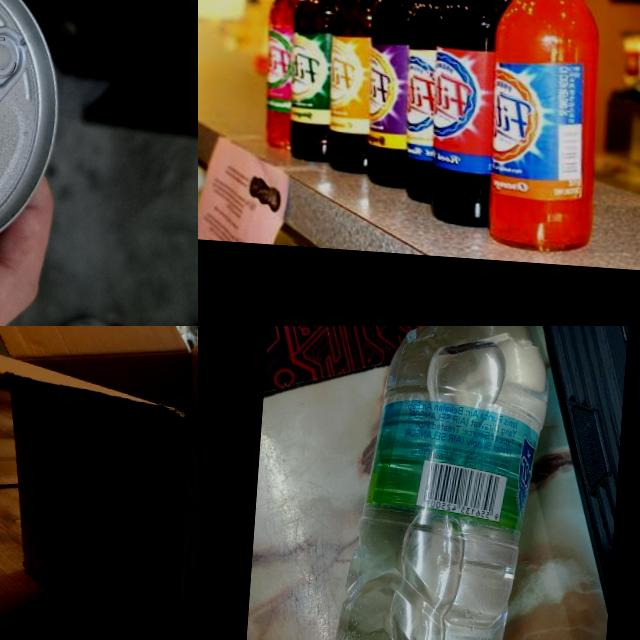aba de lata: (0, 21, 30, 136)
garrafa de vidro: (483, 0, 616, 253), (424, 0, 522, 232), (394, 0, 472, 204), (363, 0, 435, 189), (324, 0, 397, 175), (282, 0, 355, 162), (260, 0, 318, 149)
garrafa plástica: (309, 326, 559, 640)
lata: (0, 0, 69, 266)
papelão: (0, 326, 198, 640)
